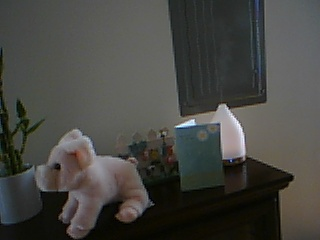piggy: (34, 127, 150, 239)
